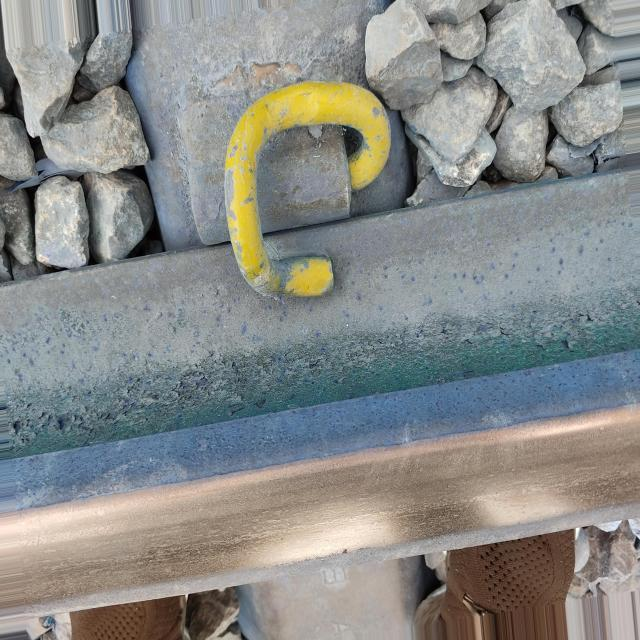Good Fasteners: (127, 36, 418, 327)
